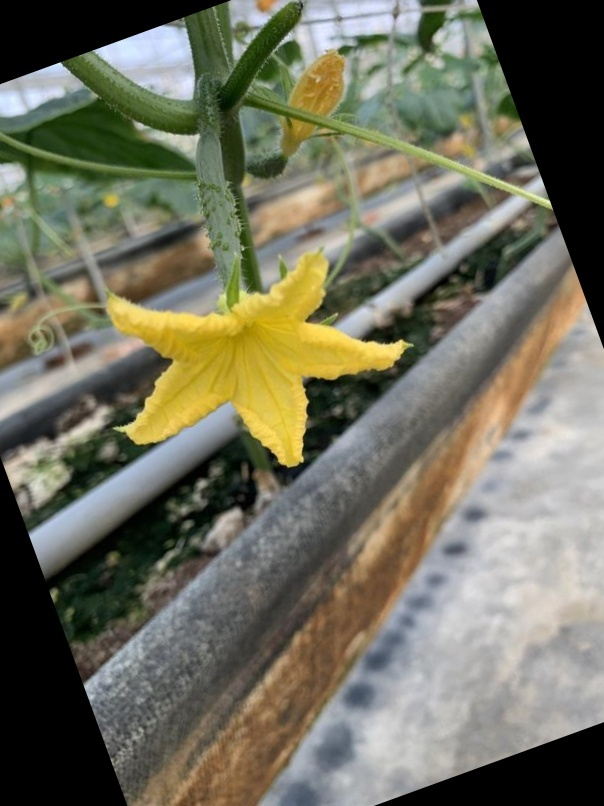flowering: (85, 103, 404, 484)
